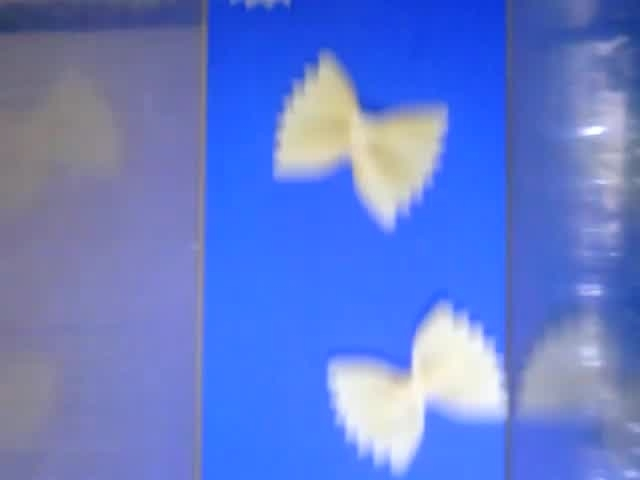farfalle: (327, 296, 509, 474), (274, 50, 450, 232)
